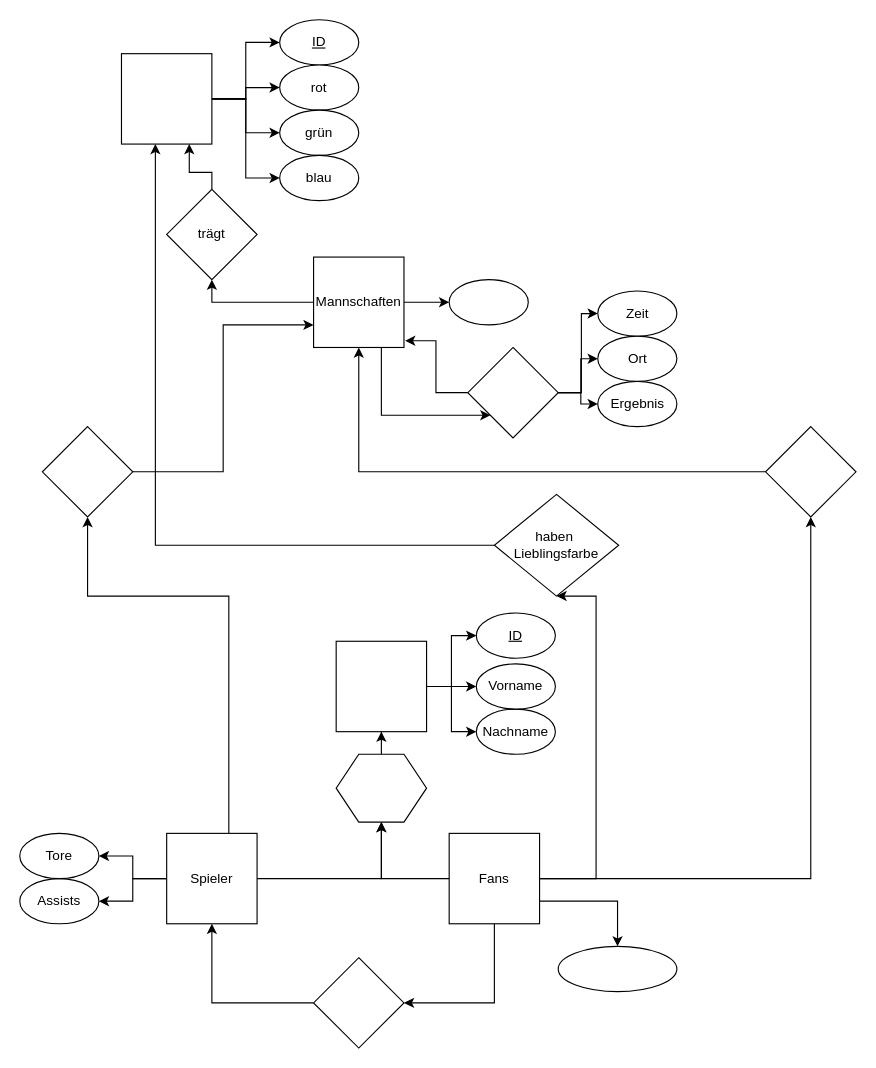
Image size: 876x1068. Some labels were removed from this diagram. The shapes that lost their labels are listed below. From the top down, each one's centre as x and y in pixels, then its label:
At [166,98]: "Farbe".
At [488,302]: "Name".
At [512,392]: "spielen gegen".
At [87,471]: "spielen für".
At [810,471]: "unterstützen".
At [381,686]: "Person".
At [381,787]: "ist eine".
At [617,968]: "Fanatismuswert".
At [358,1002]: "verehren".
